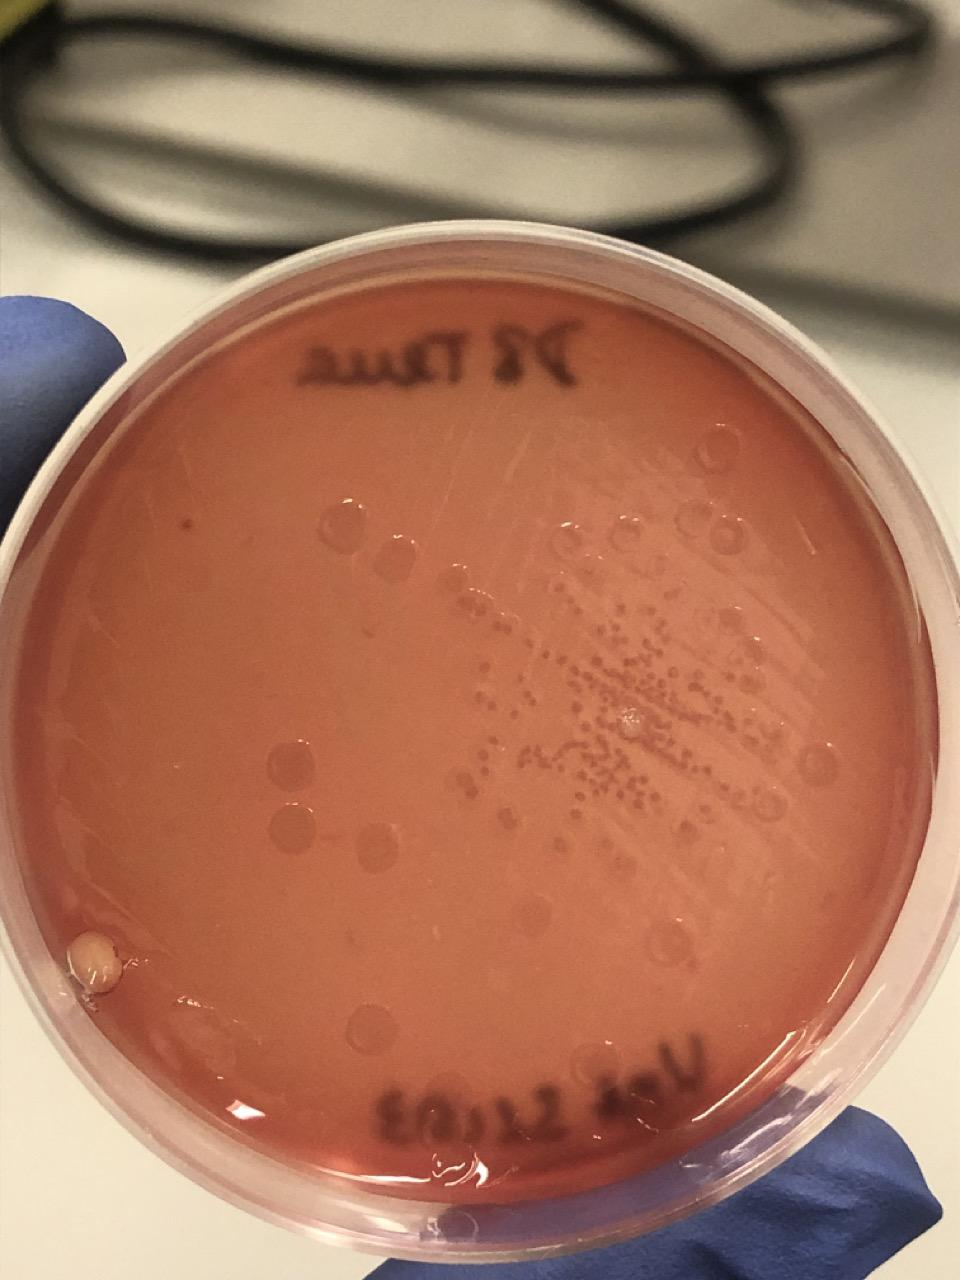tmaritimum: (676, 497, 752, 558), (354, 826, 402, 876), (795, 740, 843, 788), (697, 422, 745, 471), (270, 802, 318, 852), (267, 742, 315, 791), (574, 1039, 622, 1086), (346, 1005, 393, 1053), (320, 501, 367, 549), (646, 920, 694, 968), (373, 536, 416, 580), (513, 892, 553, 936), (606, 514, 646, 554), (549, 518, 588, 559), (751, 782, 791, 822), (458, 588, 497, 620), (614, 773, 651, 797), (441, 563, 470, 592), (717, 606, 745, 634), (741, 665, 769, 692), (739, 634, 767, 660), (521, 688, 539, 707), (489, 620, 512, 634), (711, 707, 734, 720), (632, 788, 646, 808), (688, 680, 706, 692), (690, 766, 715, 774)
